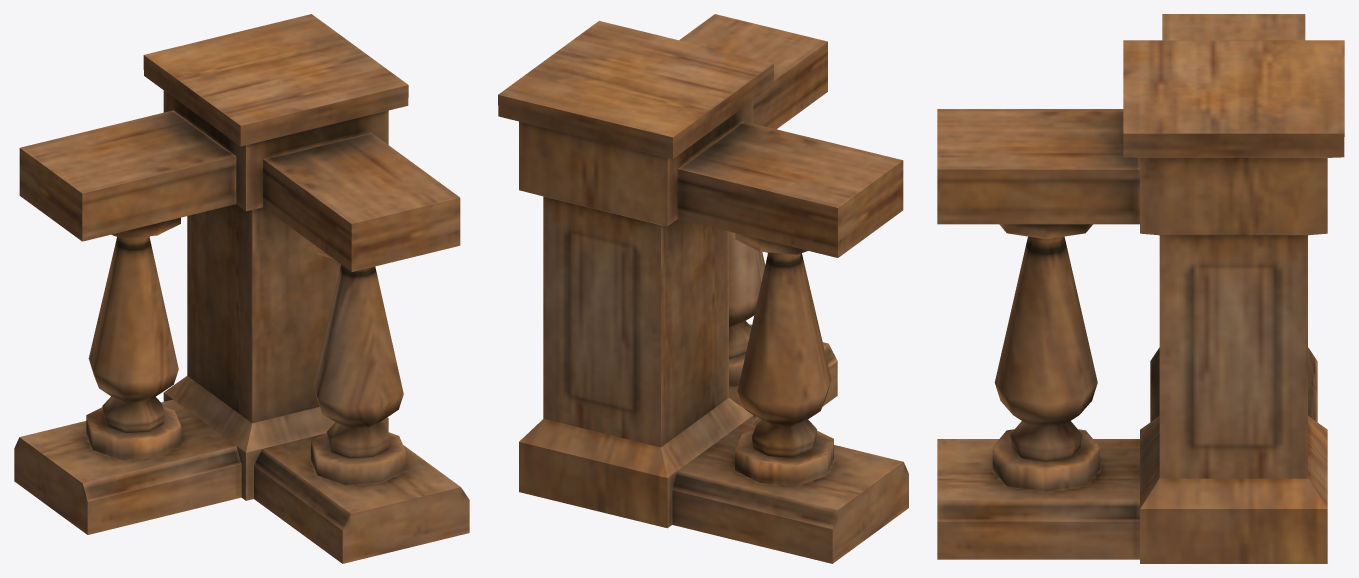
Rendered from EP1_WoodHandRail_corner.fbx.
3 renders of one model, left to right at view 1: azimuth 30°, elevation 25°; view 2: azimuth 150°, elevation 25°; view 3: azimuth 270°, elevation 25°, orthographic. The views are drawn at different scales.
Parts seen in each view (by area): view 1: EP1_WoodHandRail_corner; view 2: EP1_WoodHandRail_corner; view 3: EP1_WoodHandRail_corner.
Boxes of the visible parts, <box> form: EP1_WoodHandRail_corner: <box>14,14,469,563</box>; EP1_WoodHandRail_corner: <box>498,14,908,563</box>; EP1_WoodHandRail_corner: <box>937,14,1344,563</box>.
Bounding box in the file's own units: 0.6865 × 0.8139 × 0.6865.
1 material, 1 textured.
